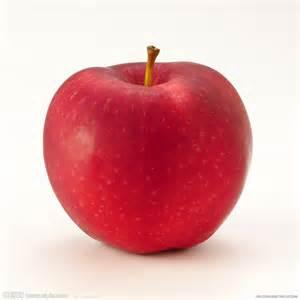apple: (45, 45, 254, 256)
